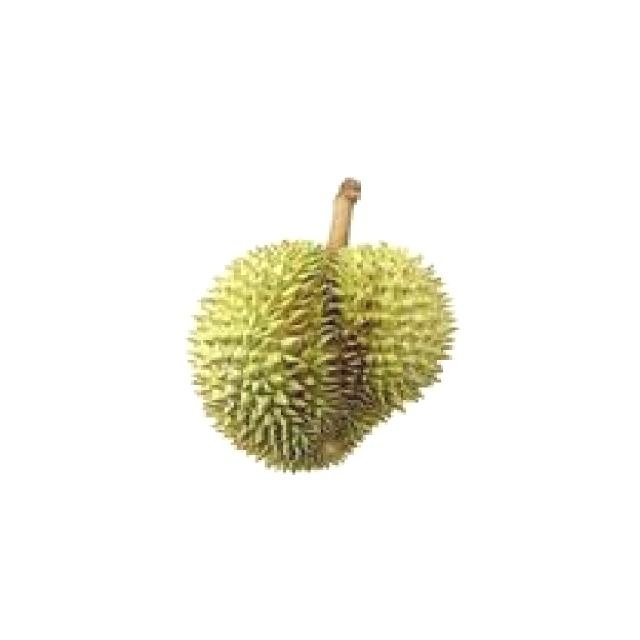agrume: (179, 222, 477, 482)
